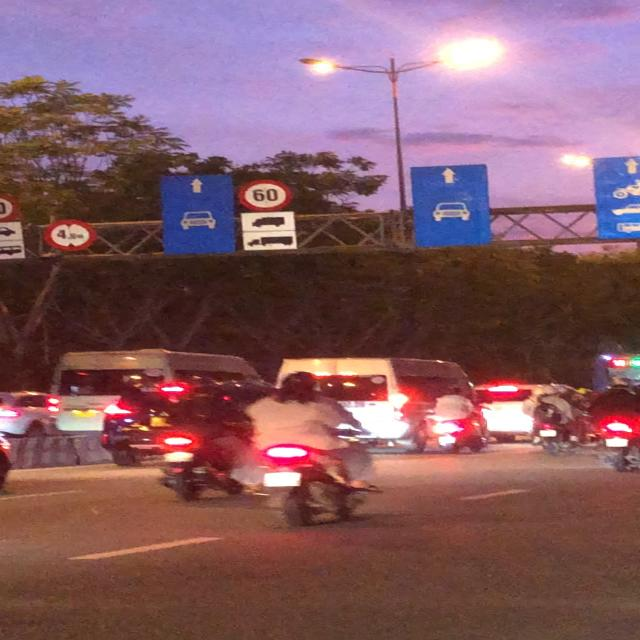Bien bao han che chieu cao: (45, 216, 100, 256)
Bien bao toc do toi da cho phep: (232, 178, 298, 214)
